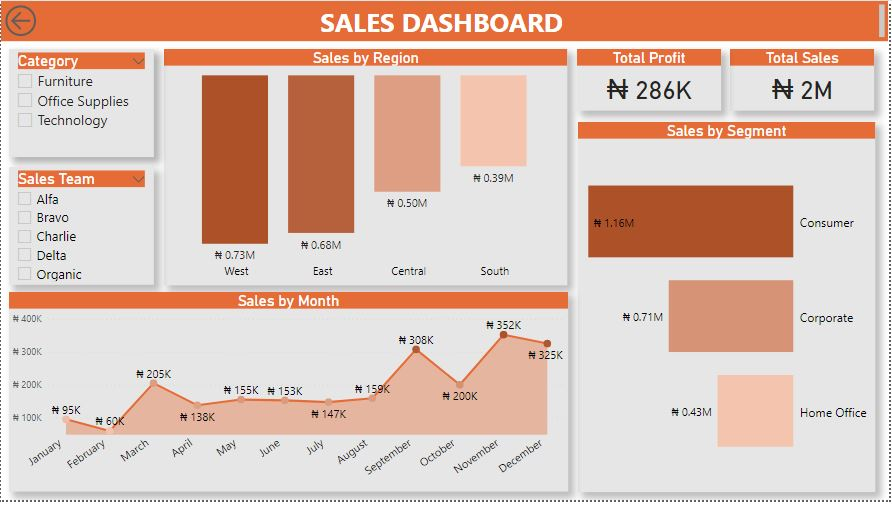

What the dashboard file says about the page in this screenshot:
{"tool":"powerbi","page":{"name":"Sales Dashboard","canvas":[1280,720],"ordinal":1},"visuals":[{"type":"columnChart","title":"Sales by Region","fields":{"Y":["Sum(Sales.Sales)"],"Category":["Locations.Region"]},"box":[235.7,69.6,582.2,340.8],"z":0},{"type":"barChart","title":"Sales by Segment","fields":{"Y":["Sum(Sales.Sales)"],"Category":["Customers.Segment"]},"box":[832.2,174.7,428.9,534],"z":1000},{"type":"card","title":"Total Sales","fields":{"Values":["Sum(Sales.Sales)"]},"box":[1051.5,68.9,208.3,89],"z":2000},{"type":"card","title":"Total Profit","fields":{"Values":["Sum(Sales.Profit)"]},"box":[831.5,68.9,208.3,89],"z":3000},{"type":"slicer","fields":{"Values":["Products.Category"]},"box":[11.4,69.6,208.8,156.2],"z":4000},{"type":"slicer","fields":{"Values":["Sales Reps.Sales Team"]},"box":[11.4,240,208.8,170.4],"z":5000},{"type":"textbox","box":[0,0,1279.5,58.2],"z":6000},{"type":"areaChart","fields":{"Y":["Sum(Sales.Sales)"],"Category":["Sales.Order Date.Variation.Date Hierarchy.Month"]},"box":[11.4,420.4,806.6,288.3],"z":7000},{"type":"actionButton","box":[0,0,81.5,57.3],"z":8000}]}

Visuals, with their boxes in screenshot pixels (x1, y1, x2, y2), scaled from the page's 1280x720 canvas onto the 892x505 screenshot:
"Sales by Region" columnChart: [x1=164, y1=49, x2=570, y2=288]
"Sales by Segment" barChart: [x1=580, y1=123, x2=879, y2=497]
"Total Sales" card: [x1=733, y1=48, x2=878, y2=111]
"Total Profit" card: [x1=579, y1=48, x2=725, y2=111]
slicer - Products.Category: [x1=8, y1=49, x2=153, y2=158]
slicer - Sales Reps.Sales Team: [x1=8, y1=168, x2=153, y2=288]
textbox: [x1=0, y1=0, x2=891, y2=41]
areaChart - Sum(Sales.Sales) x Sales.Order Date.Variation.Date Hierarchy.Month: [x1=8, y1=295, x2=570, y2=497]
actionButton: [x1=0, y1=0, x2=57, y2=40]
